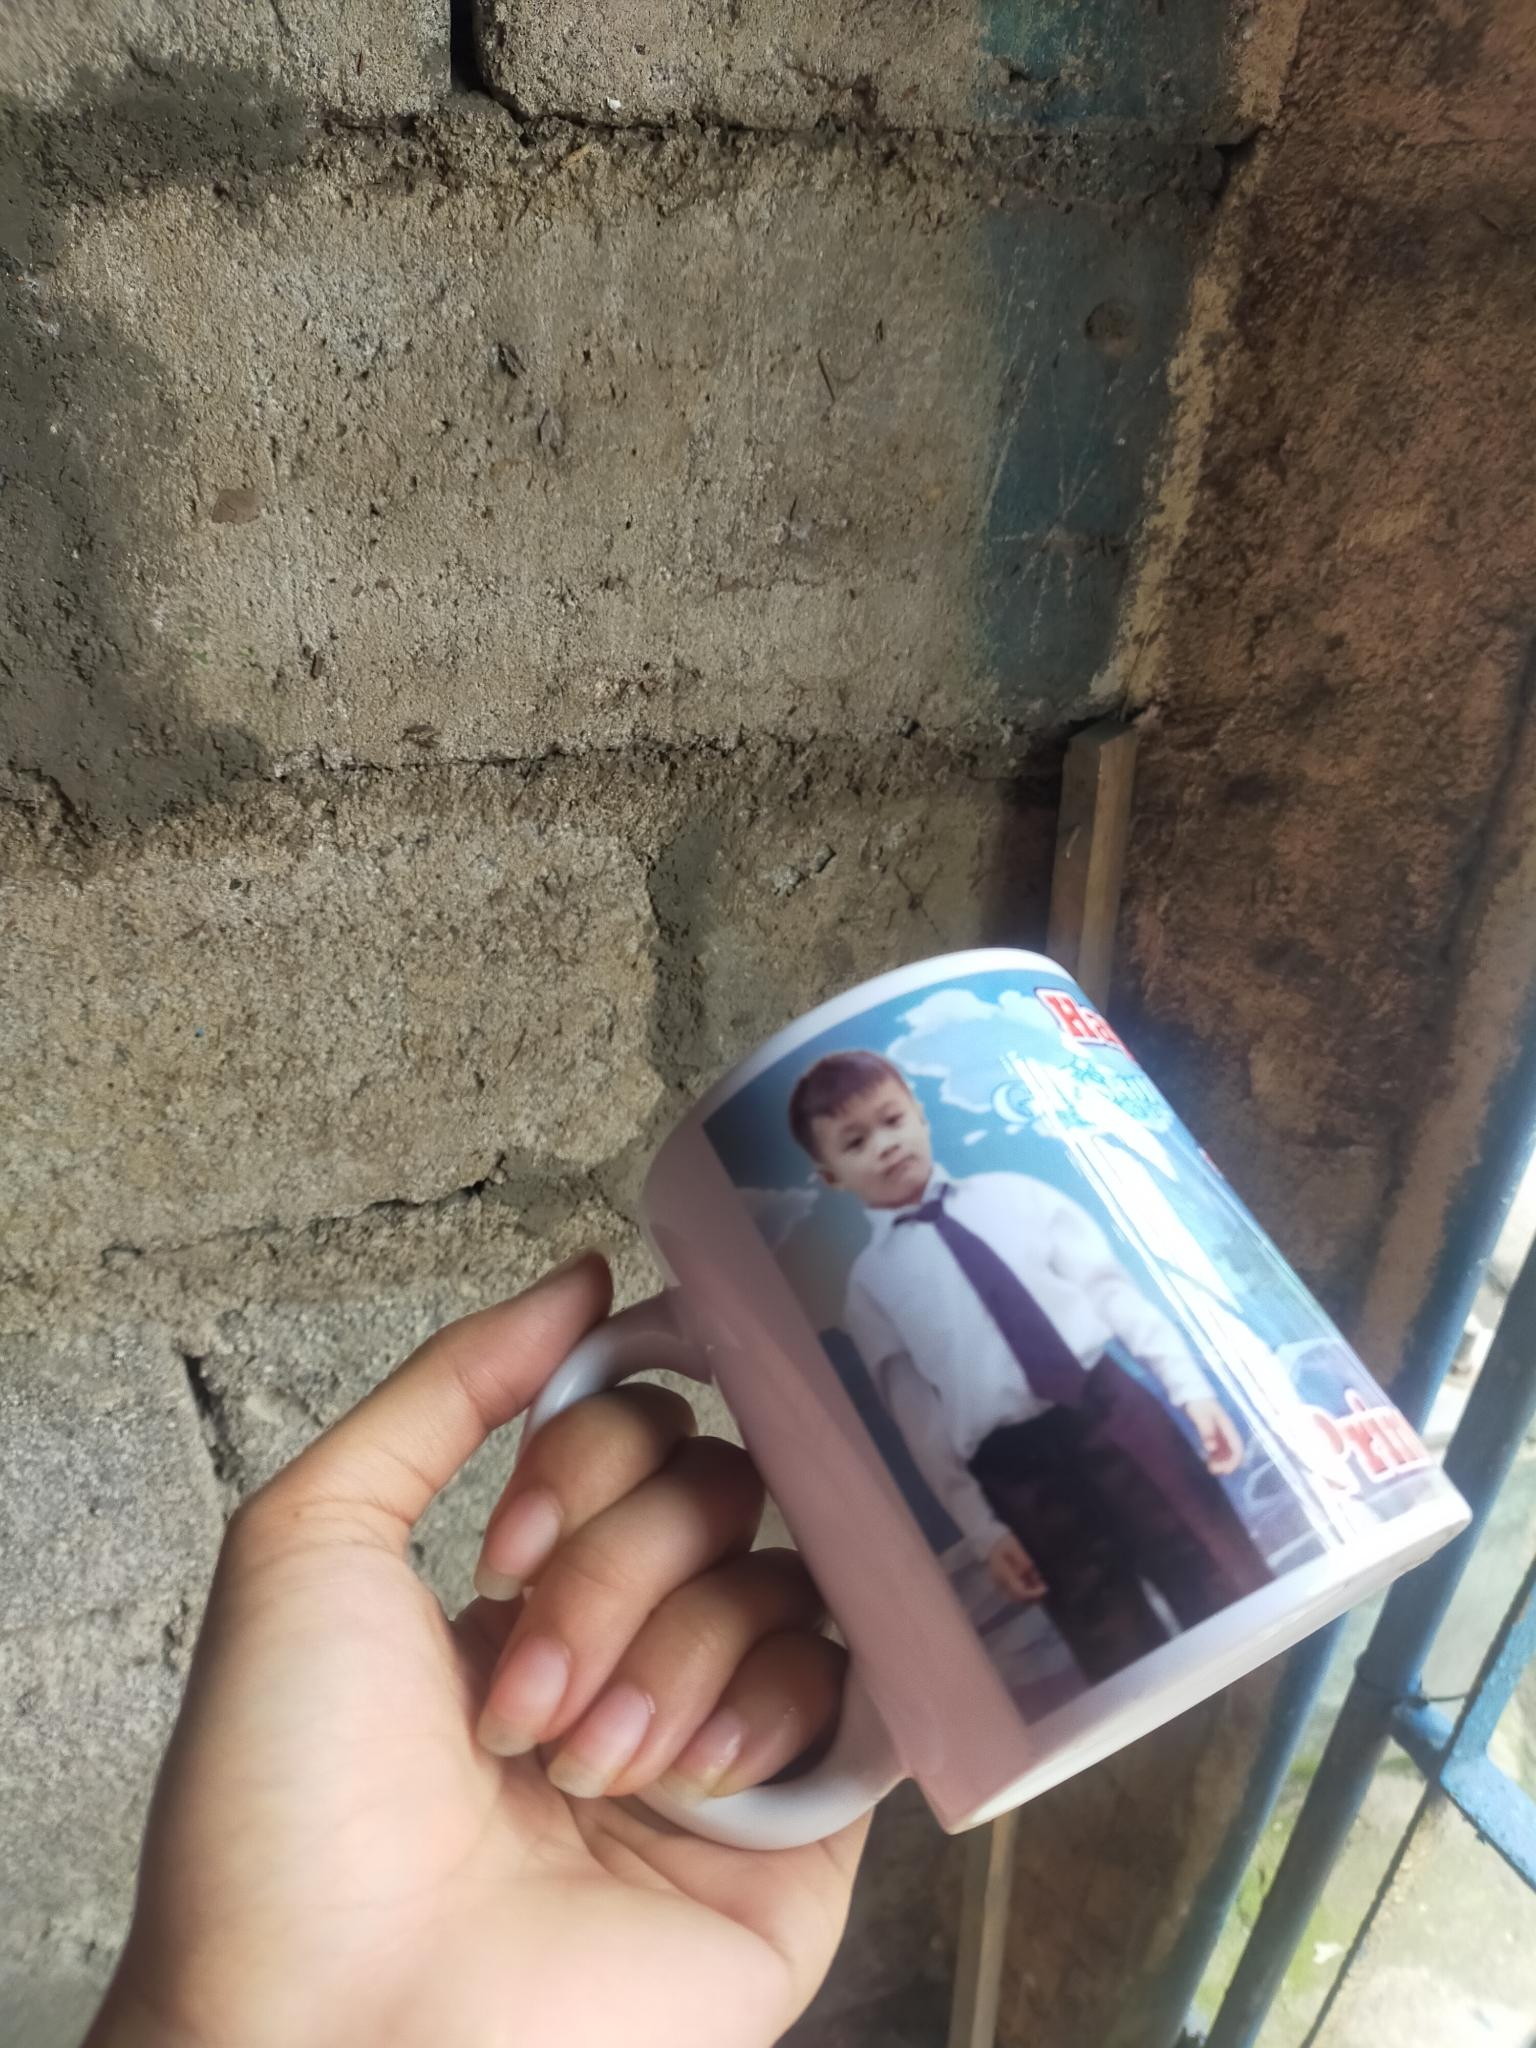Coffee Mug: (528, 942, 1475, 1850)
